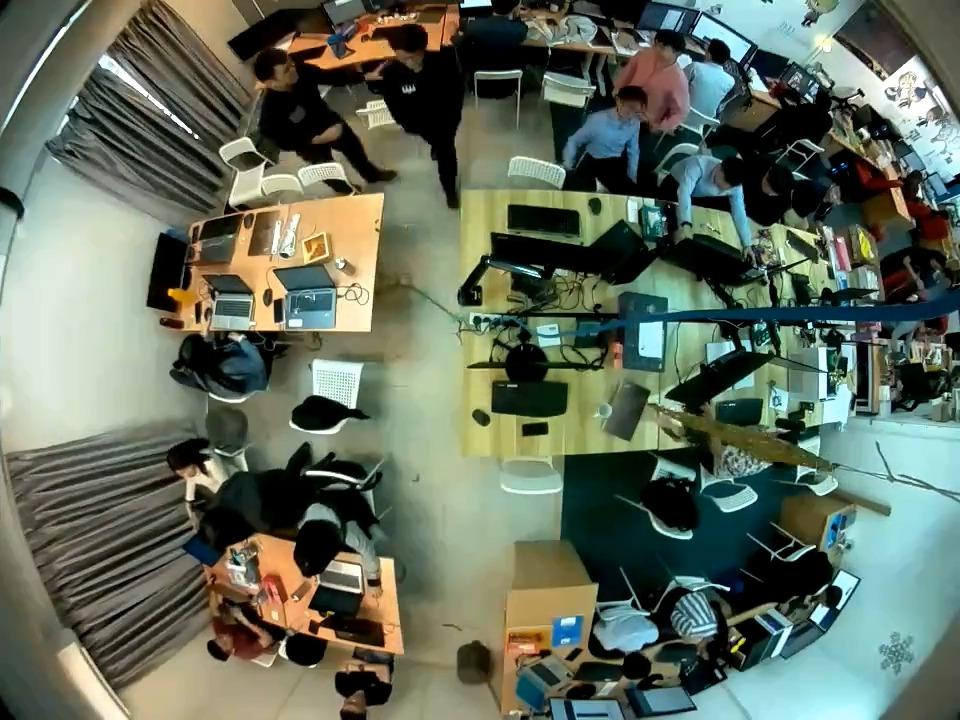name-tag: (398, 82, 418, 98)
